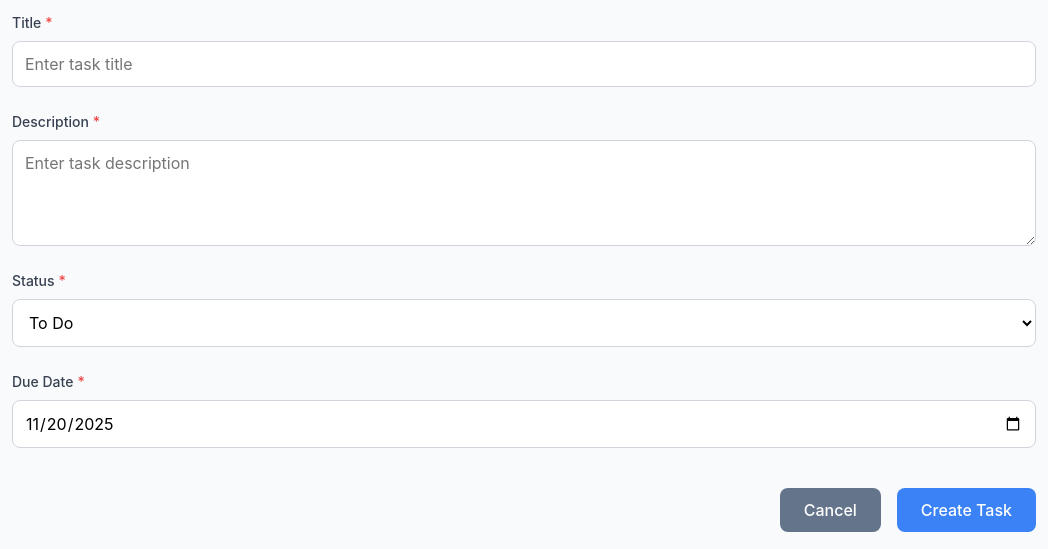
Test: TaskForm Component › Form Submission › should show loading state on submit button
Type "Task Title" into the field labelled "Title*" at x=524, y=64, box [12, 41, 1036, 87]
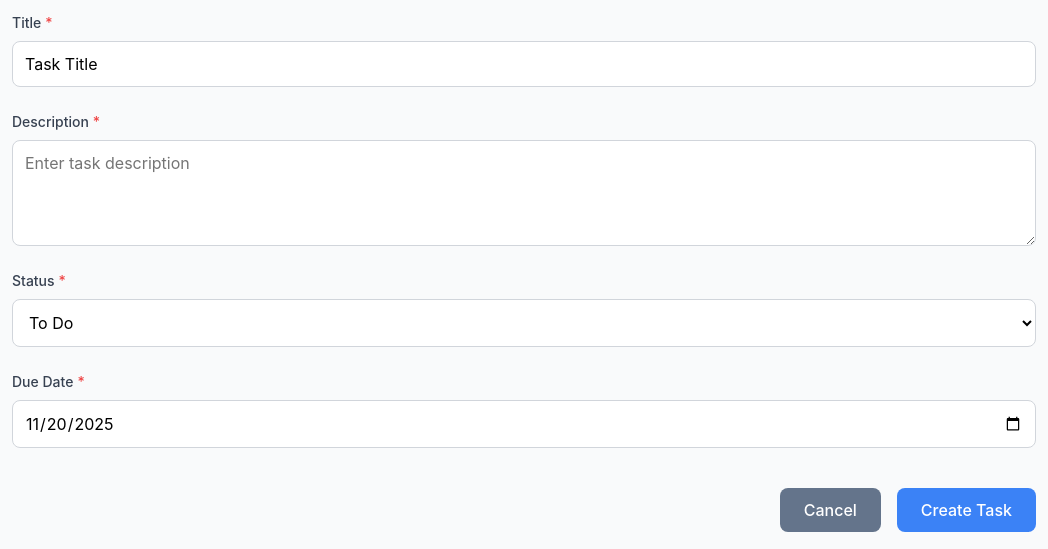
Type "Valid description text" into the text box labelled "Description*" at x=524, y=193, box [12, 140, 1036, 246]
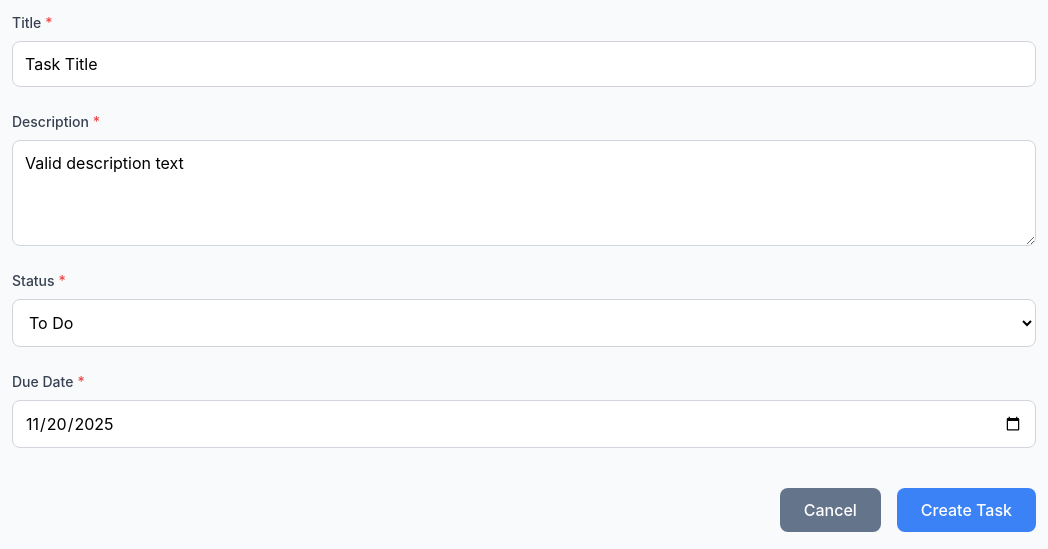
Type "2025-12-31" into the date field labelled "Due Date*" at x=524, y=424, box [12, 400, 1036, 448]
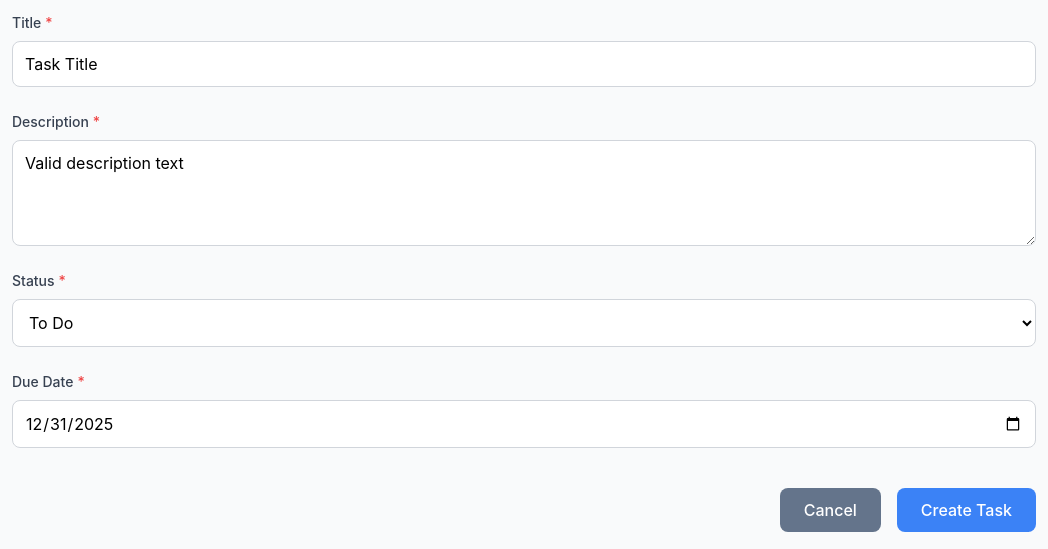
Click the button "Create Task" at x=966, y=510, box [897, 488, 1036, 532]
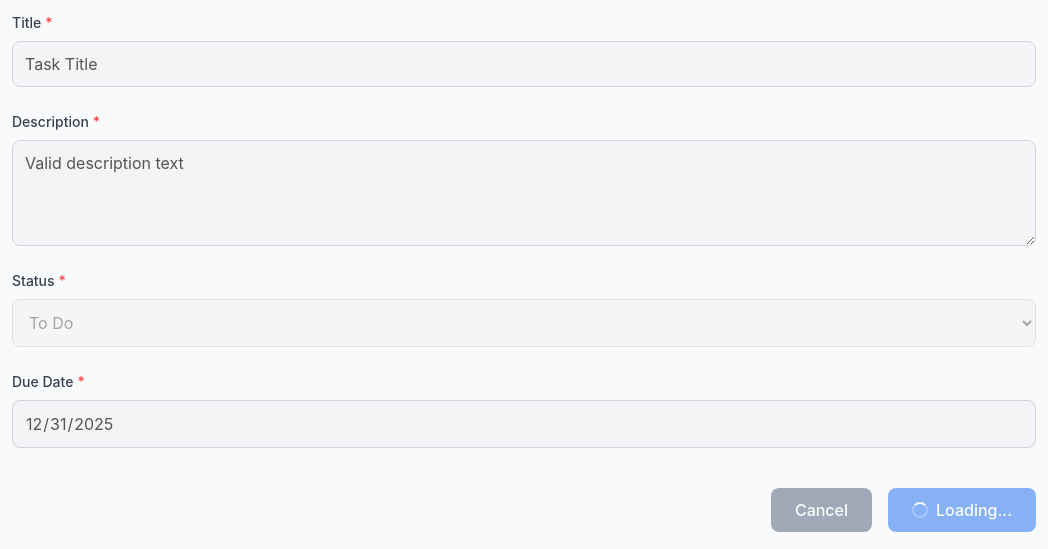
Check: the text "Loading..." is shown, box [936, 500, 1012, 520]
